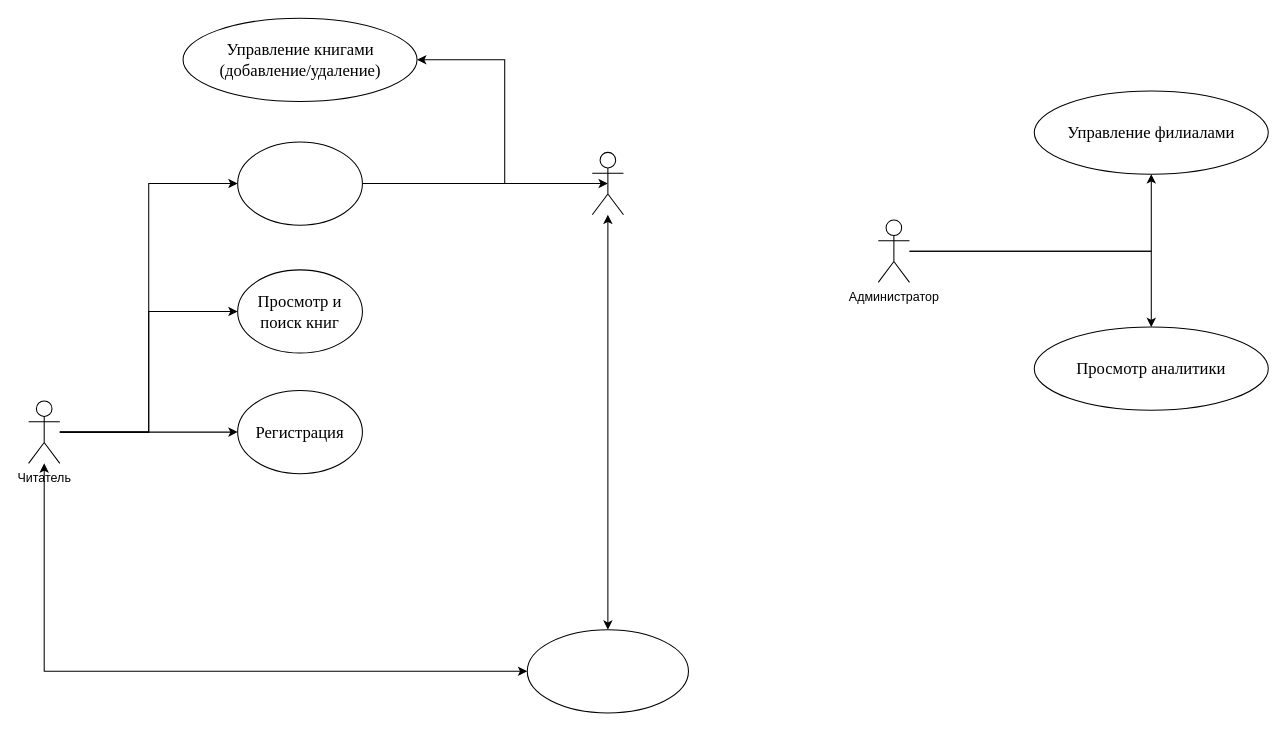
The diagram is 1286 pixels wide and 731 high, and some of its shapes have lost their labels. The shapes that lost their labels are listed below. From the top down, each one's centre as x and y in pixels, then its label:
pixel 299 183: Бронирование книги
pixel 607 183: Библиотекарь
pixel 607 671: Выдача/возврат книг
